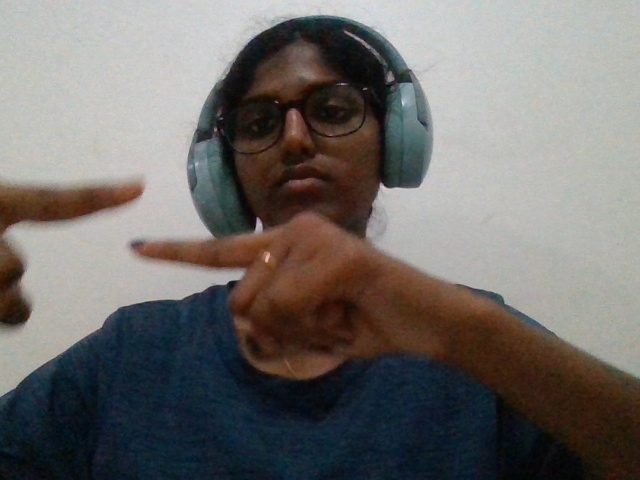Sign: (3, 113, 532, 428)
